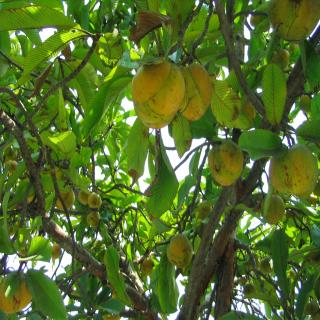Lemon: (132, 62, 186, 130), (269, 145, 318, 197), (267, 0, 320, 40), (178, 61, 212, 120), (208, 138, 242, 184), (0, 270, 32, 311), (167, 232, 193, 266)
